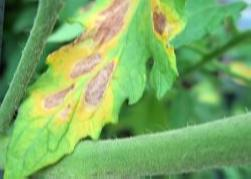Tomato Early blight leaf: (5, 0, 181, 179)
